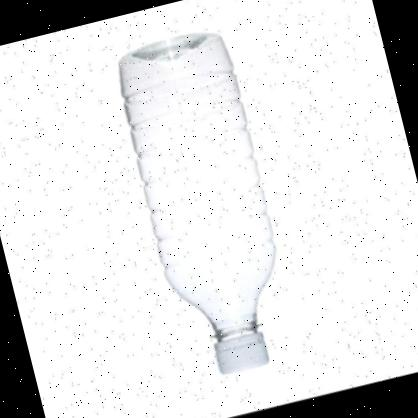bottle: (107, 25, 306, 386)
cap: (210, 330, 271, 378)
